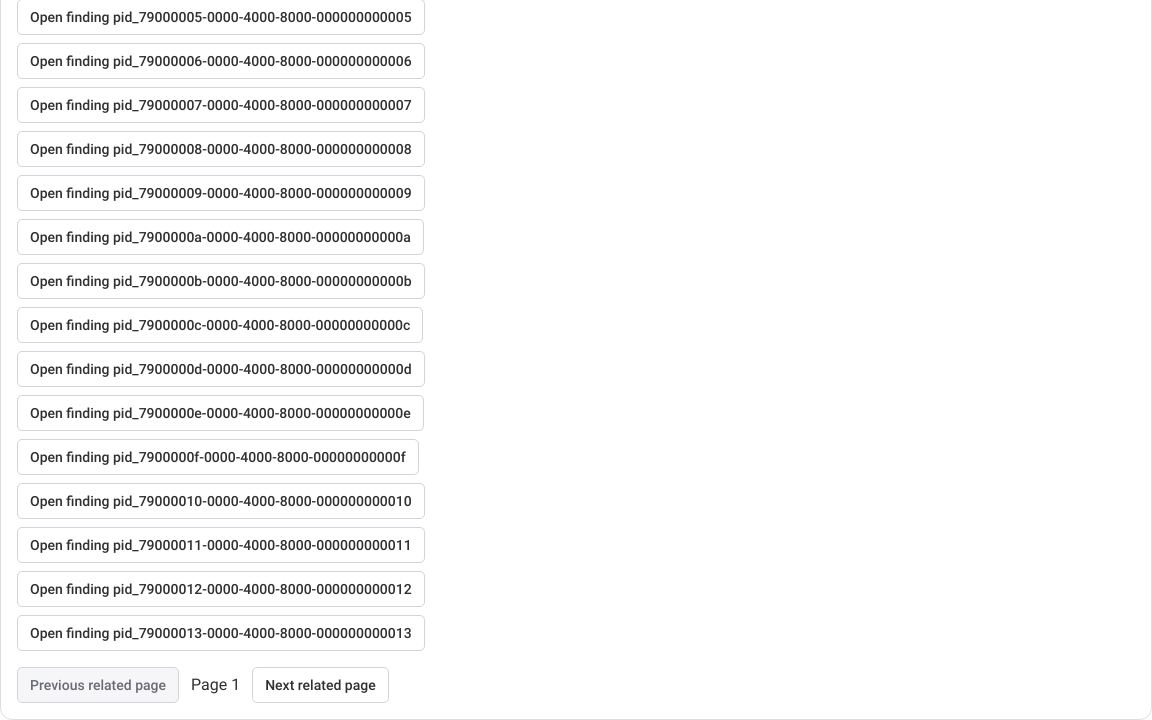
Test: Security Agent activity panel › pages next and previous without keeping links from the other page
Later steps or results of the test are not shown.
(page scrolled)
Expected: the button "Previous related page" is disabled, [17, 667, 179, 703]
Click the button "Next related page": (320, 685) [252, 667, 389, 703]
(page scrolled)
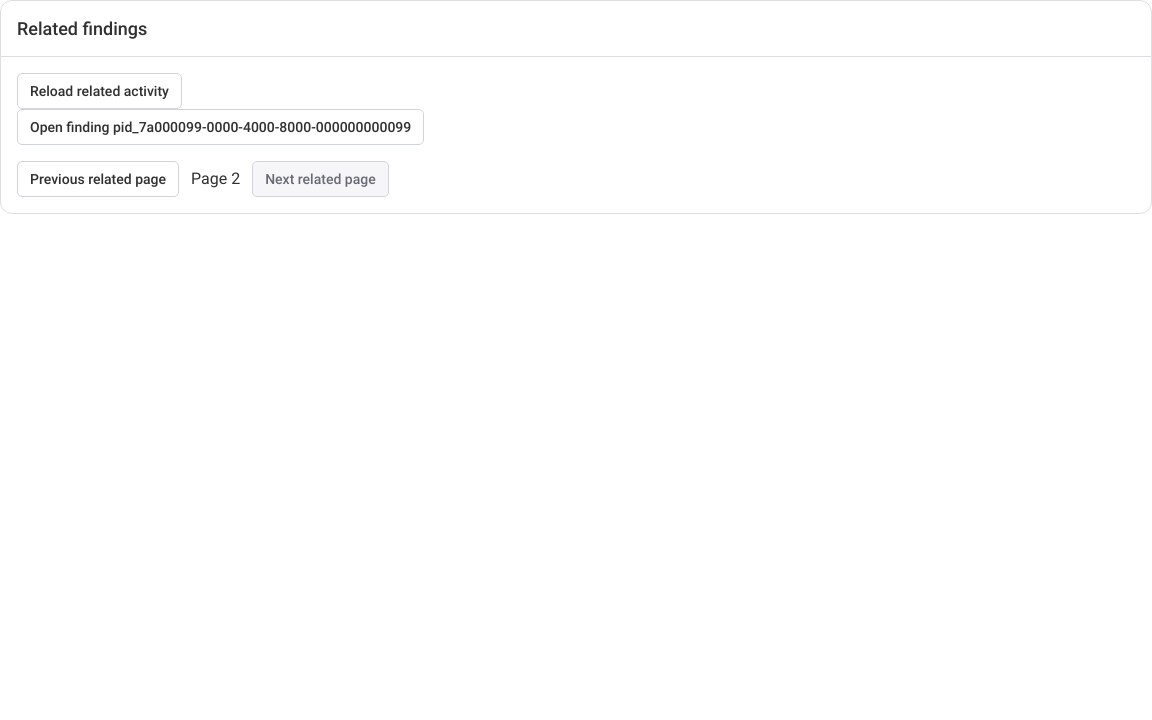
Expected: the button "Next related page" is disabled, [252, 161, 389, 197]
